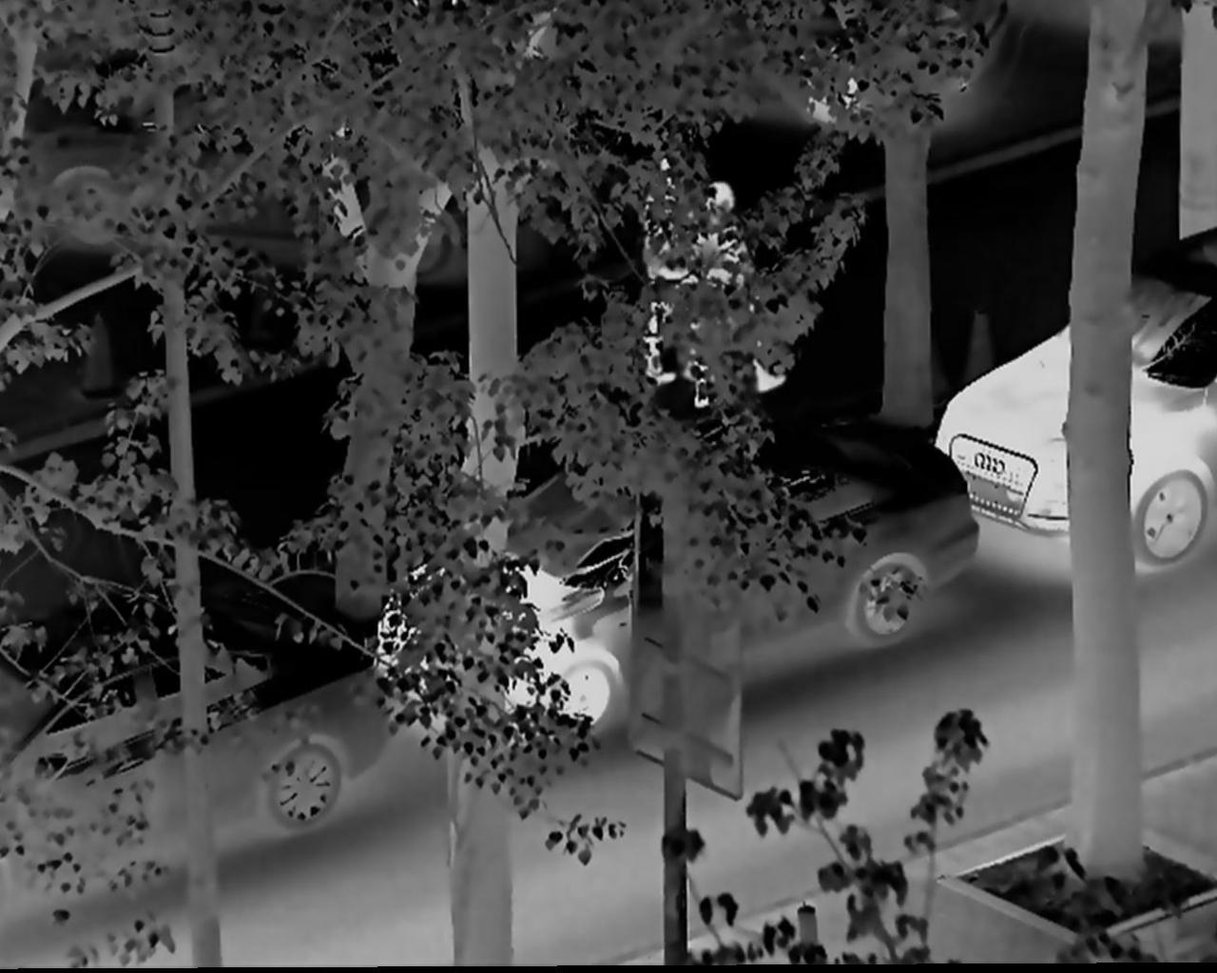person: (699, 168, 782, 408)
